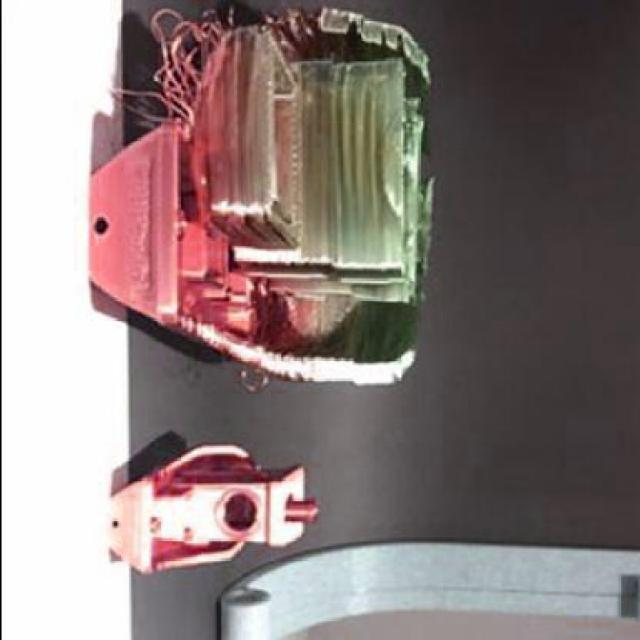spaghetti: (109, 9, 224, 126), (256, 0, 316, 65), (264, 64, 304, 102), (236, 360, 270, 394)
